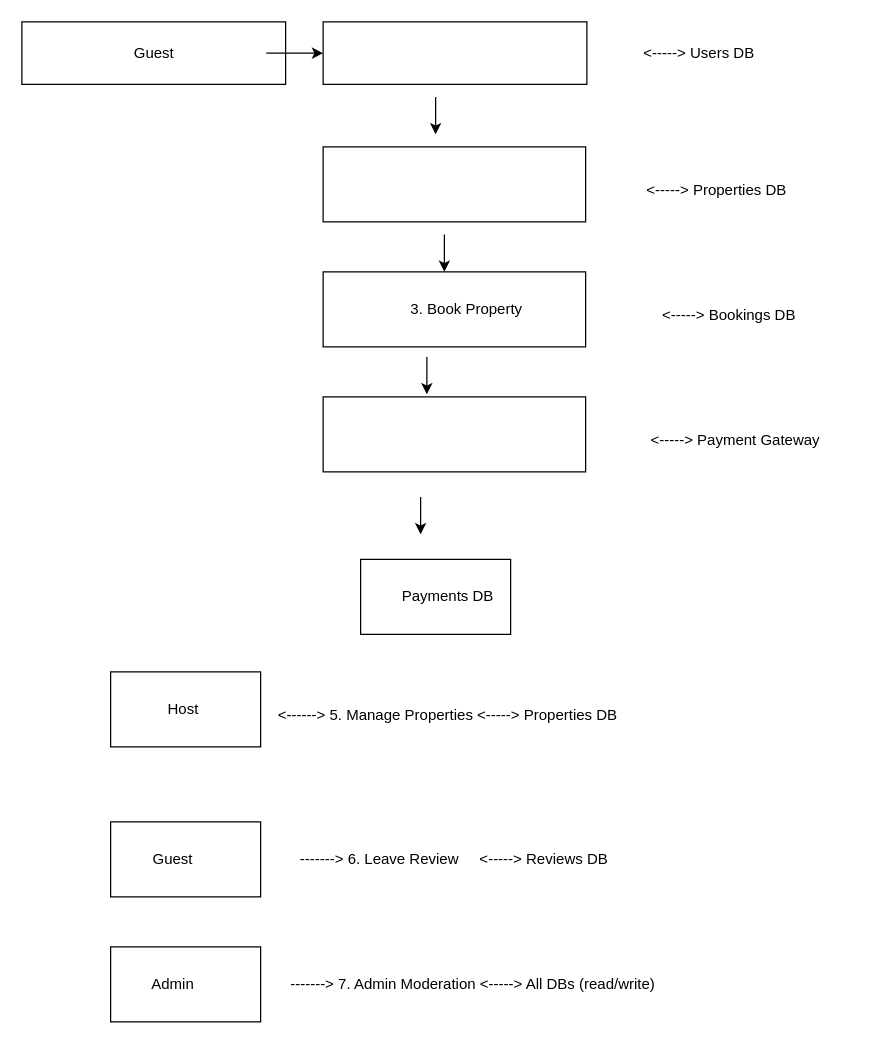
This 870x1044 diagram has some shape labels left out. The centre of each missing label's shape, as x and y in pixels:
"1. Register/Login" belongs at pixel 454 52.
"2. Search Listings" belongs at pixel 454 184.
"4. Make Payment" belongs at pixel 454 434.
